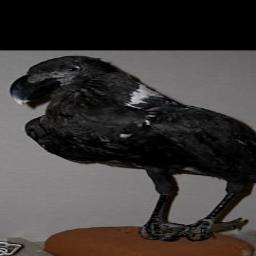Crow: (4, 55, 256, 243)
